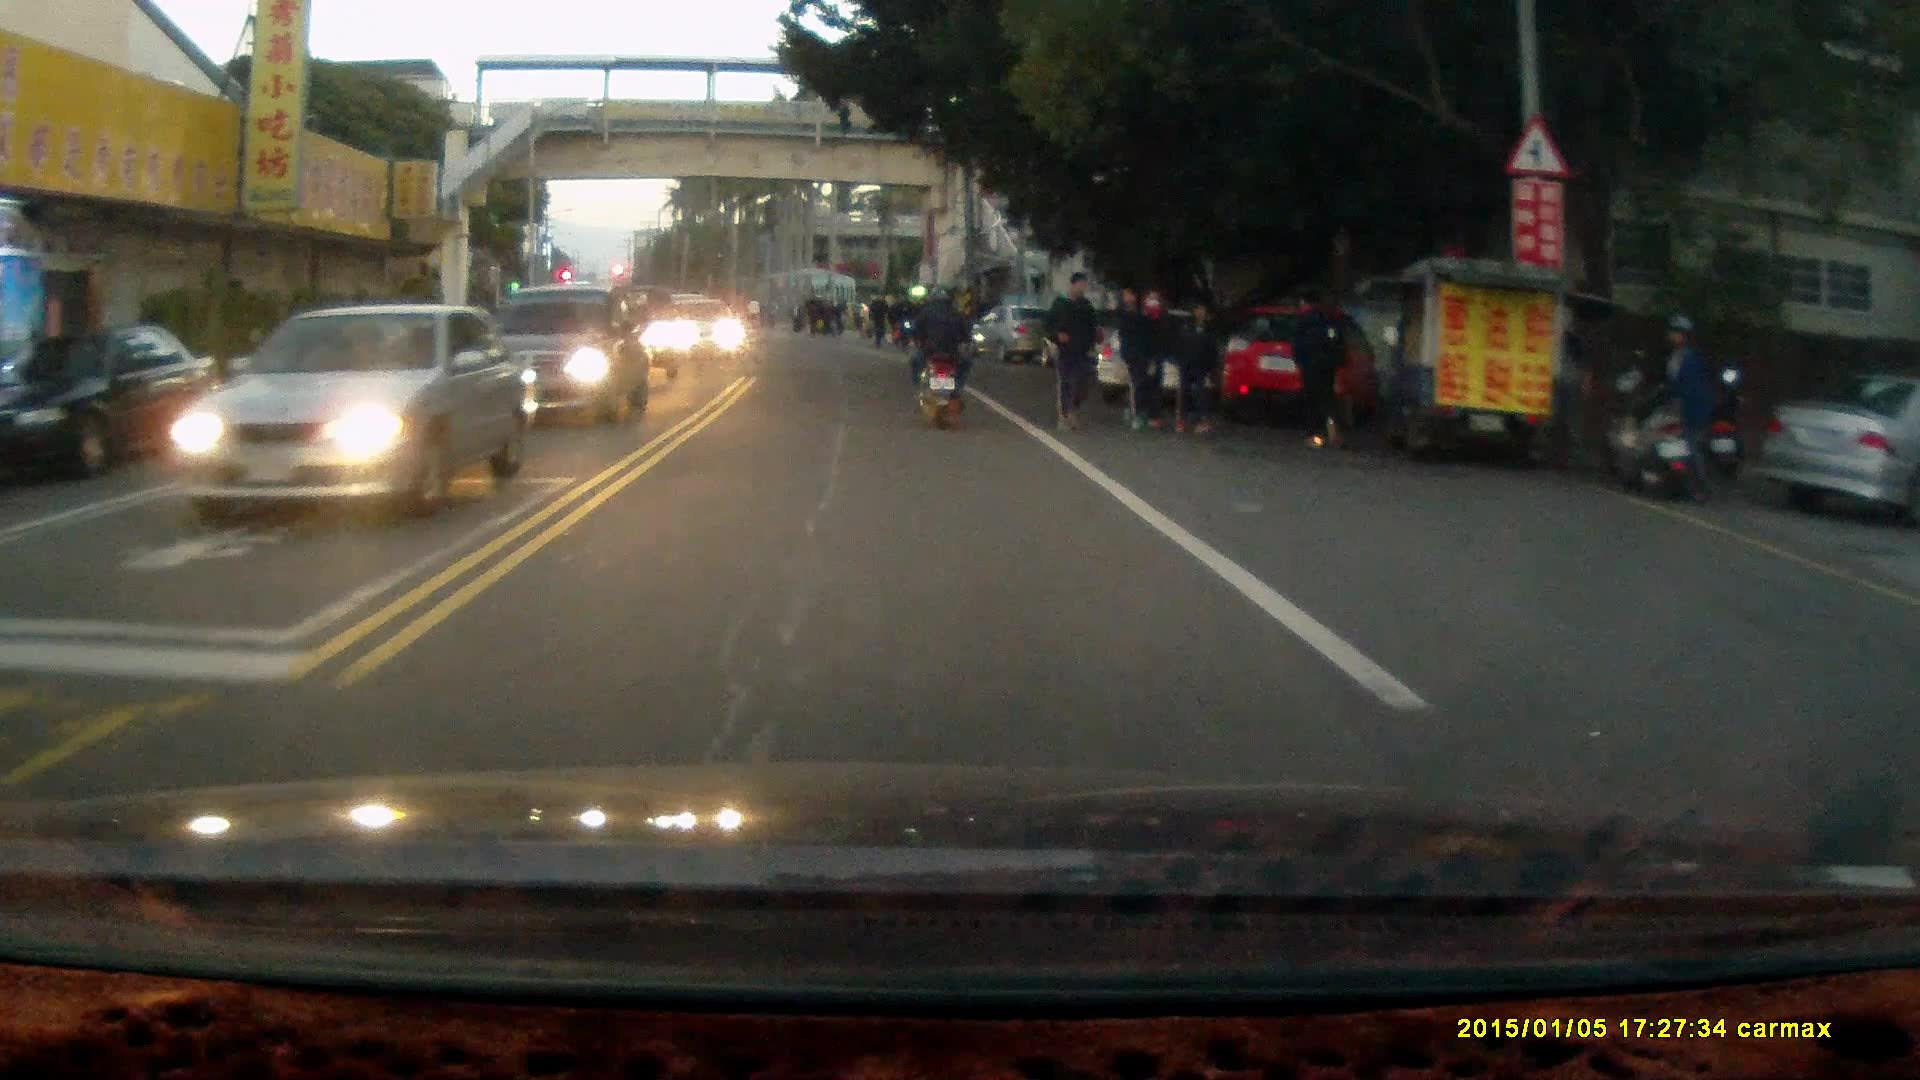pedestrian: (1669, 286, 1728, 473), (1285, 280, 1350, 441), (1041, 268, 1104, 432), (1170, 292, 1226, 438), (1112, 282, 1156, 431)
rider: (902, 278, 977, 432)
vehicle: (151, 299, 521, 513), (1, 321, 218, 486), (1756, 374, 1919, 530), (491, 281, 649, 424), (1088, 301, 1268, 410), (1215, 299, 1377, 419), (666, 295, 751, 360), (979, 301, 1061, 362)
